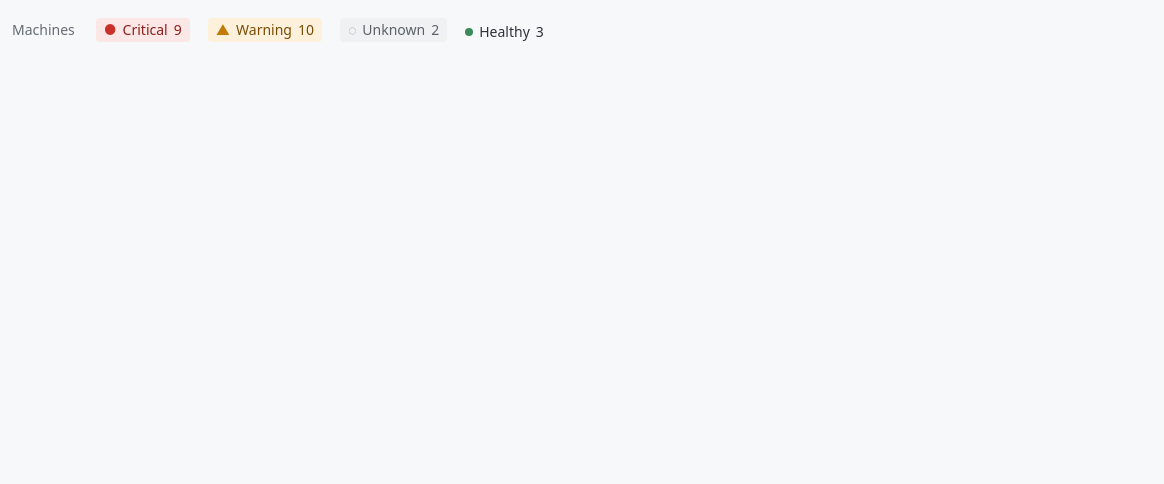
it: shows neutral labels for machines kept elevated after a dismissal
The image size is (1164, 484).
Step 1. Click the button "▲ Warning 10" → (265, 30), box top-left (203, 12), bottom-right (327, 47)
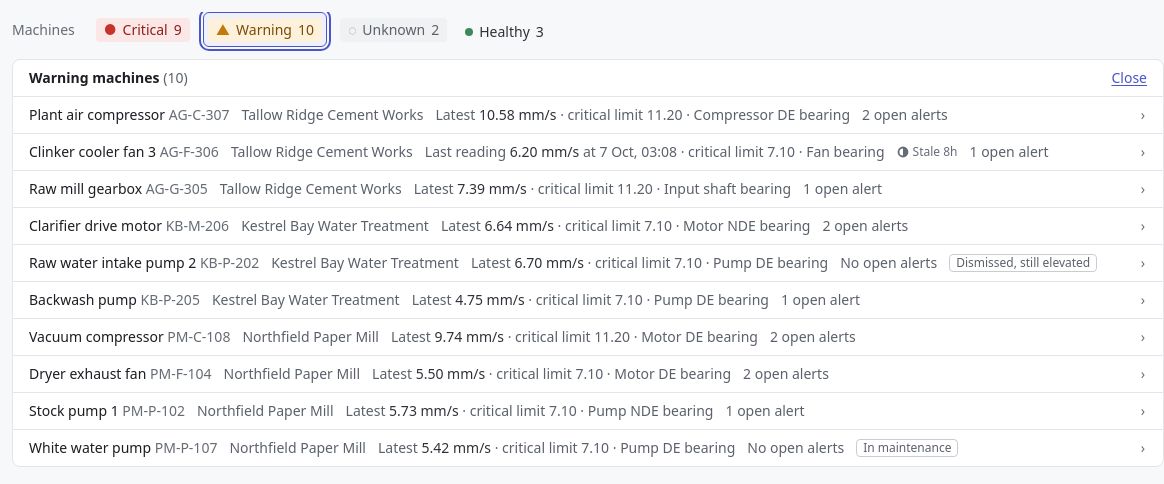
Check: the text "In maintenance" is shown, box top-left (856, 439), bottom-right (958, 457)
Check: the list item "White water pump" shows "No open alerts", box top-left (13, 430), bottom-right (1163, 466)
Check: the text "Dismissed, still elevated" is shown, box top-left (949, 254), bottom-right (1097, 272)
